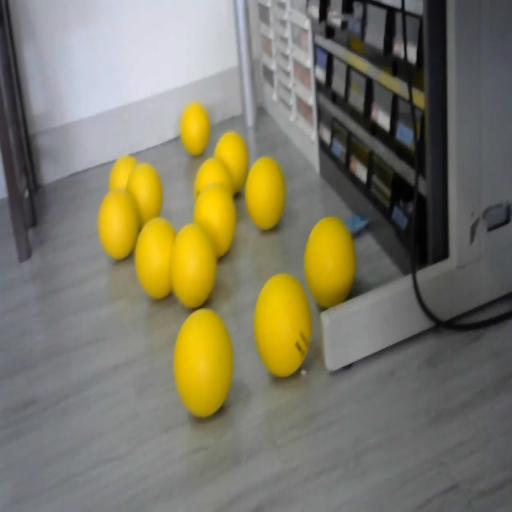FUEL: (172, 306, 234, 416), (252, 272, 312, 377), (304, 215, 356, 308), (134, 216, 176, 299), (193, 182, 236, 258), (244, 156, 286, 231), (98, 188, 140, 260), (214, 131, 249, 193), (180, 102, 210, 156), (108, 155, 138, 192)
